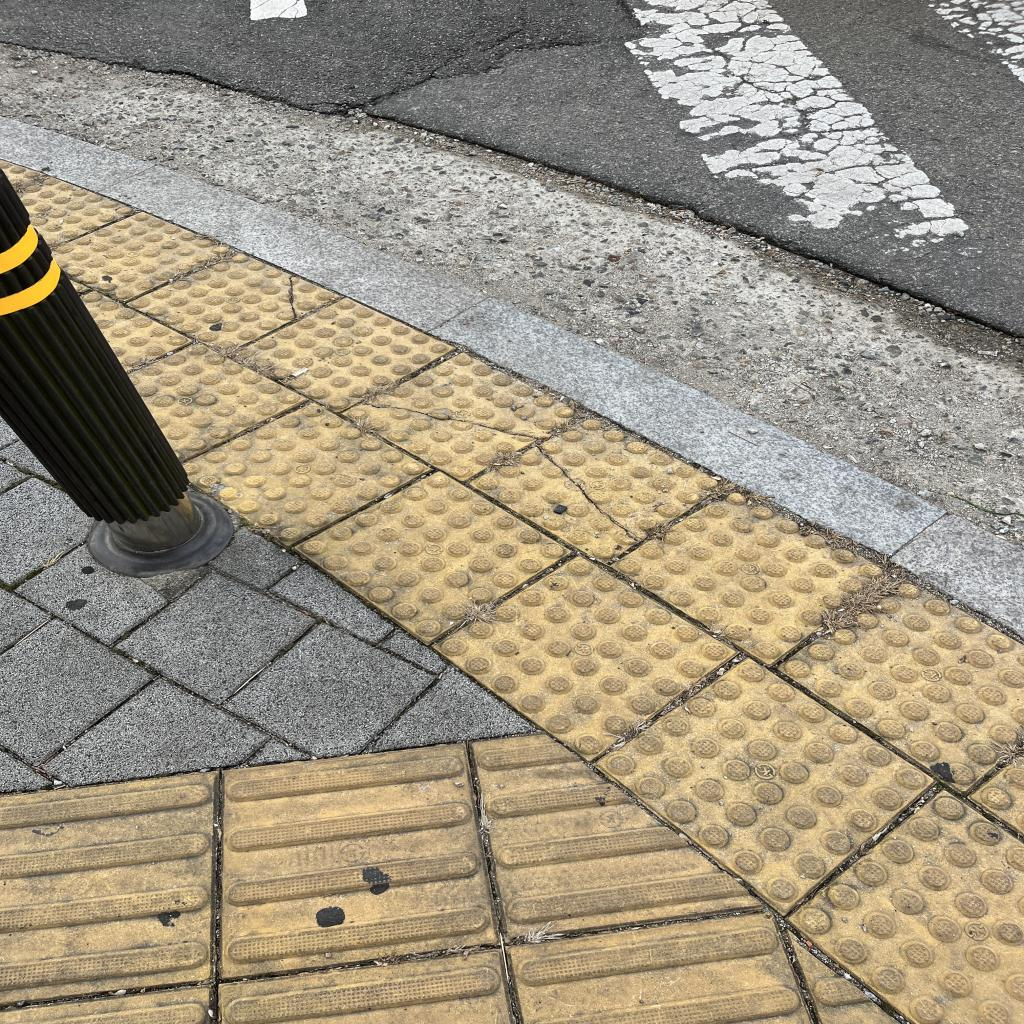Stop block broken: (464, 379, 726, 595)
Stop block normal: (585, 618, 934, 940), (436, 508, 735, 791), (295, 424, 571, 673), (611, 445, 887, 689)
